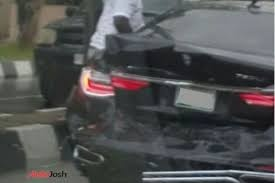Dent: (72, 35, 198, 134), (193, 125, 263, 155)
